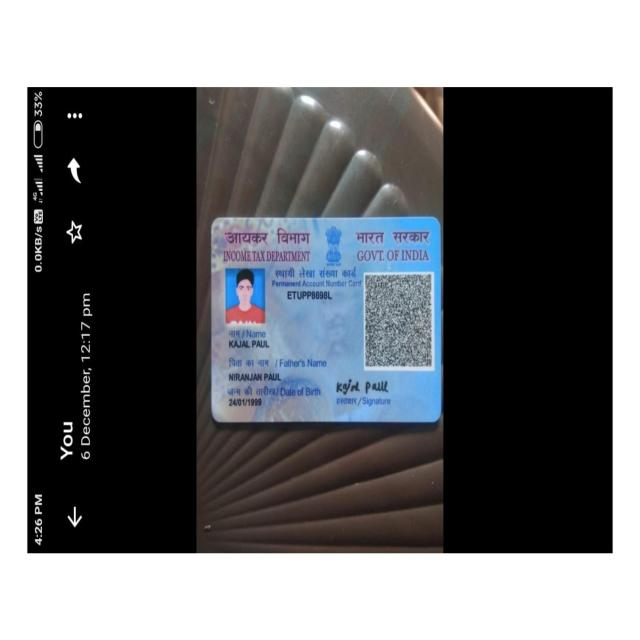pan_card: (211, 217, 439, 424)
